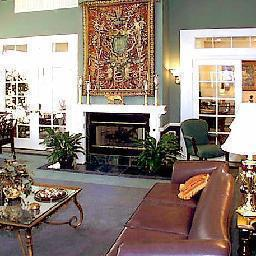Matera: (45, 131, 83, 166), (141, 132, 172, 171)
